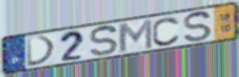2: (58, 28, 88, 65)
C: (151, 16, 182, 47)
D: (25, 34, 58, 69)
M: (116, 18, 155, 54)
S: (182, 10, 214, 43), (89, 24, 120, 57)
